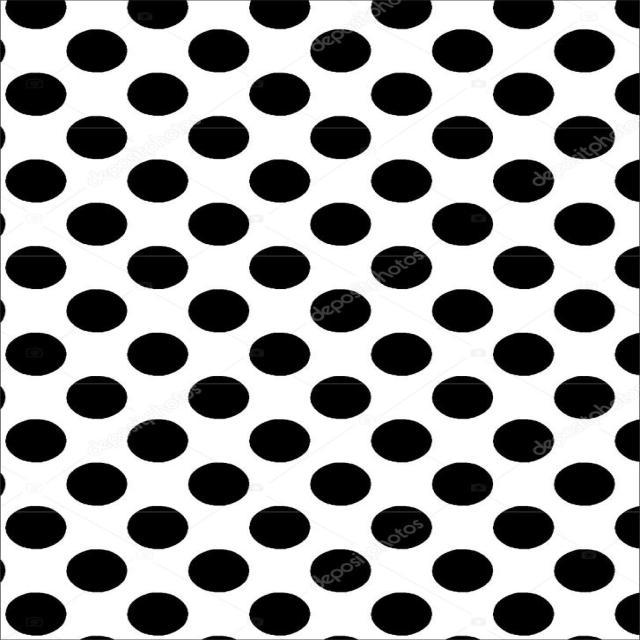circle: (544, 22, 622, 87), (362, 238, 441, 299), (0, 407, 75, 471), (484, 319, 554, 386), (176, 462, 264, 515), (183, 282, 259, 343), (1, 320, 67, 390), (546, 285, 627, 342), (181, 199, 259, 258), (430, 366, 500, 431), (361, 63, 435, 124), (60, 282, 136, 341), (304, 22, 384, 78), (546, 457, 625, 513), (421, 26, 509, 76), (368, 322, 440, 383), (430, 543, 507, 600), (487, 238, 560, 298), (484, 498, 562, 554), (306, 285, 384, 340), (428, 282, 498, 343), (60, 457, 136, 513), (53, 369, 131, 423), (546, 198, 624, 252), (362, 501, 441, 554), (425, 113, 507, 164), (5, 154, 81, 209), (249, 64, 314, 128), (124, 240, 194, 299), (306, 196, 377, 254), (117, 66, 199, 116), (483, 585, 557, 640), (124, 501, 194, 559), (484, 414, 562, 466), (247, 415, 322, 469), (0, 583, 71, 640), (185, 26, 252, 86), (306, 456, 377, 512), (124, 587, 199, 640), (546, 544, 622, 596), (484, 74, 568, 121), (304, 110, 377, 164), (0, 501, 73, 555), (64, 113, 141, 164), (124, 330, 199, 382), (0, 235, 66, 294), (247, 155, 319, 209), (423, 456, 495, 510), (119, 155, 196, 205), (366, 413, 437, 467), (425, 200, 506, 247), (60, 546, 136, 596), (64, 198, 134, 252), (5, 63, 65, 125), (186, 113, 256, 166), (546, 372, 618, 422), (247, 590, 322, 638), (245, 501, 315, 552), (126, 413, 189, 469), (66, 25, 132, 78), (186, 542, 250, 596), (240, 244, 316, 289), (364, 588, 432, 638), (310, 372, 380, 420), (310, 546, 372, 596), (494, 156, 556, 202), (190, 376, 256, 416)
